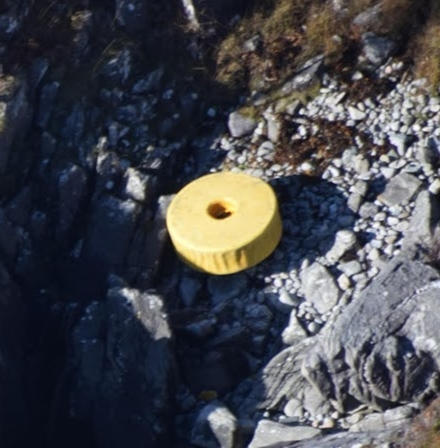white_in_green: (137, 143, 308, 303)
